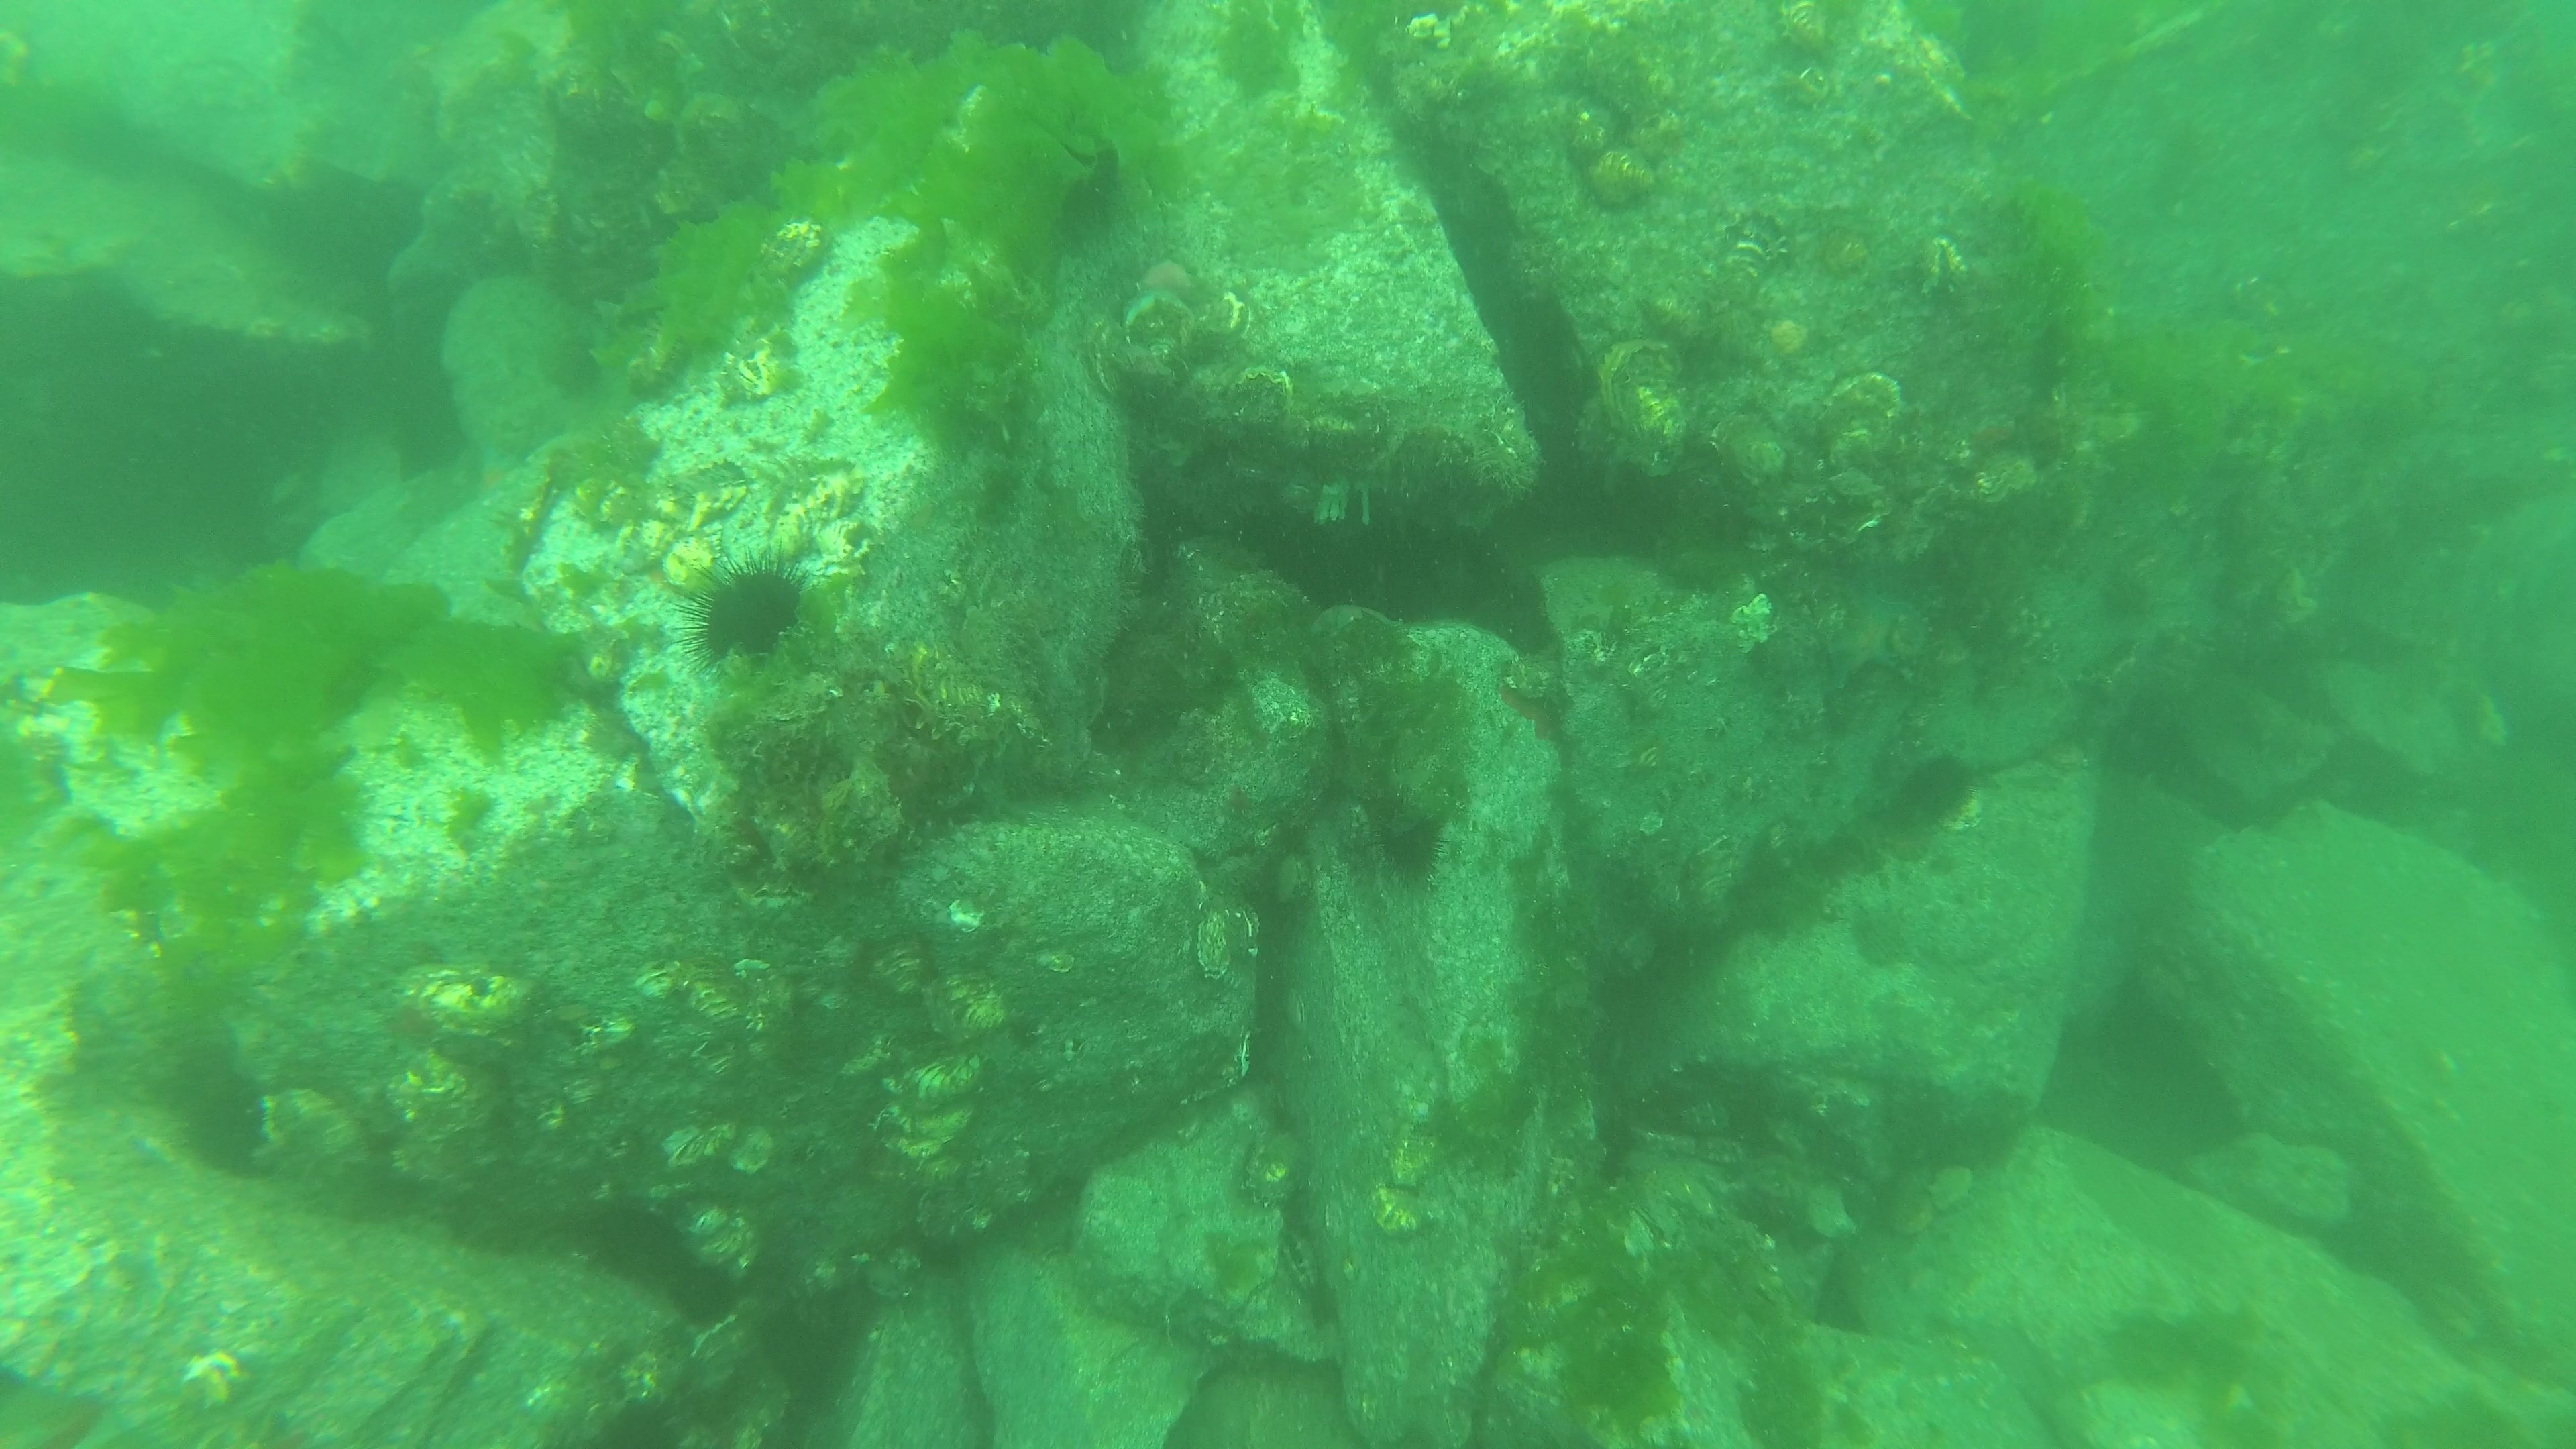echinus: (662, 545, 821, 674), (1353, 775, 1460, 897), (1886, 741, 1994, 840)
